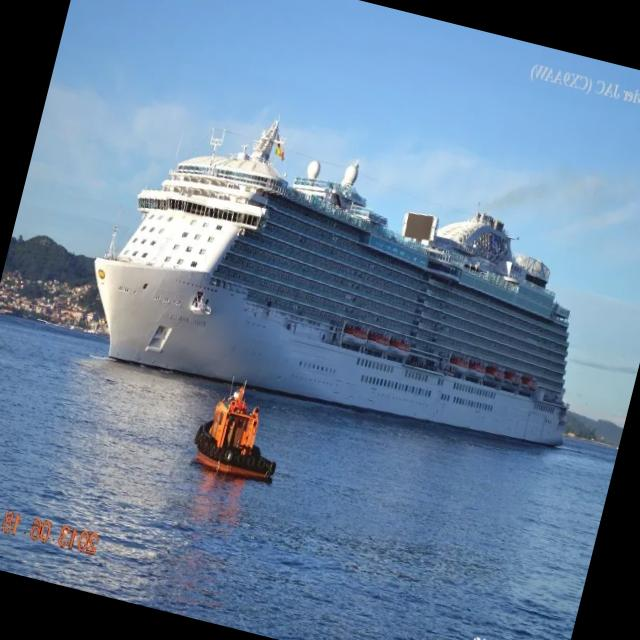Cruise: (95, 122, 569, 445)
Tug: (195, 385, 276, 481)
